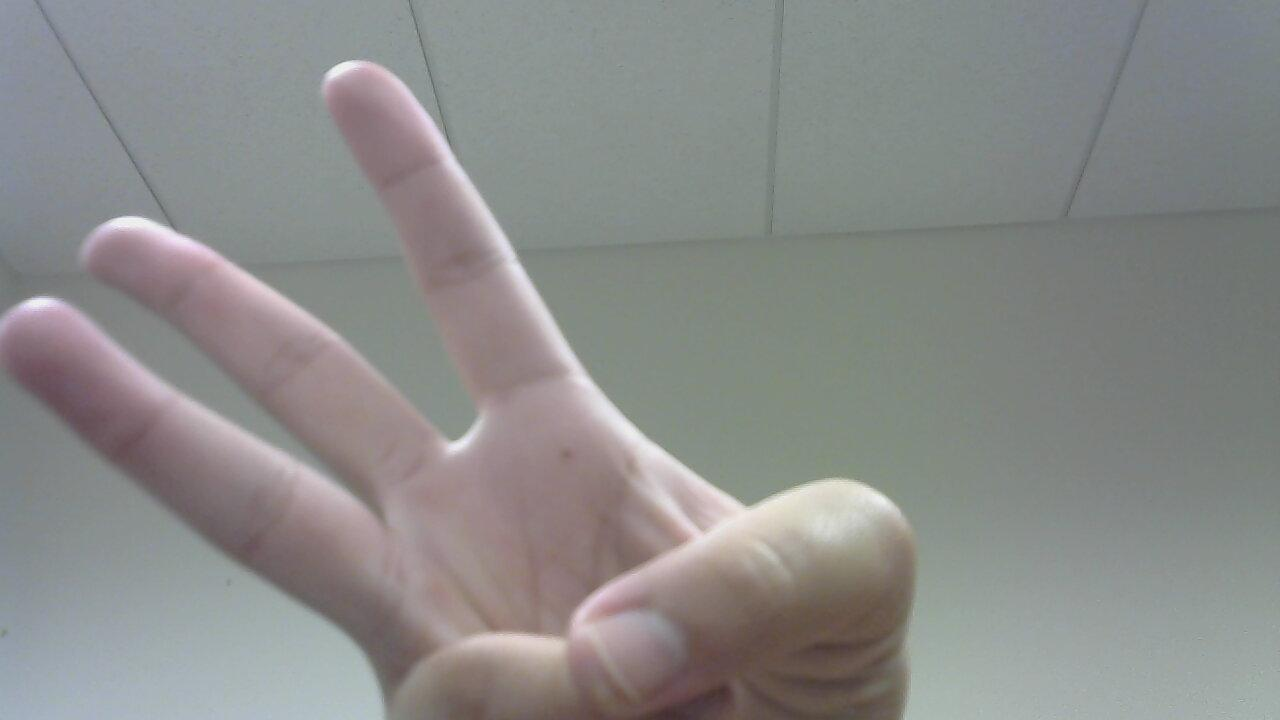hands: (9, 50, 945, 720)
